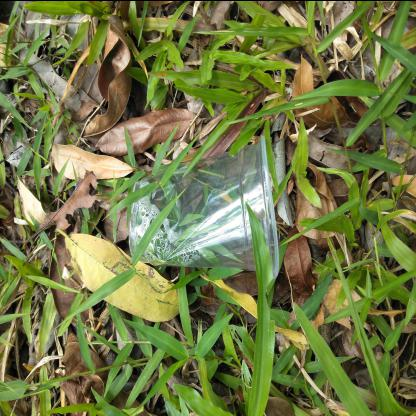plastik: (128, 132, 278, 280)
